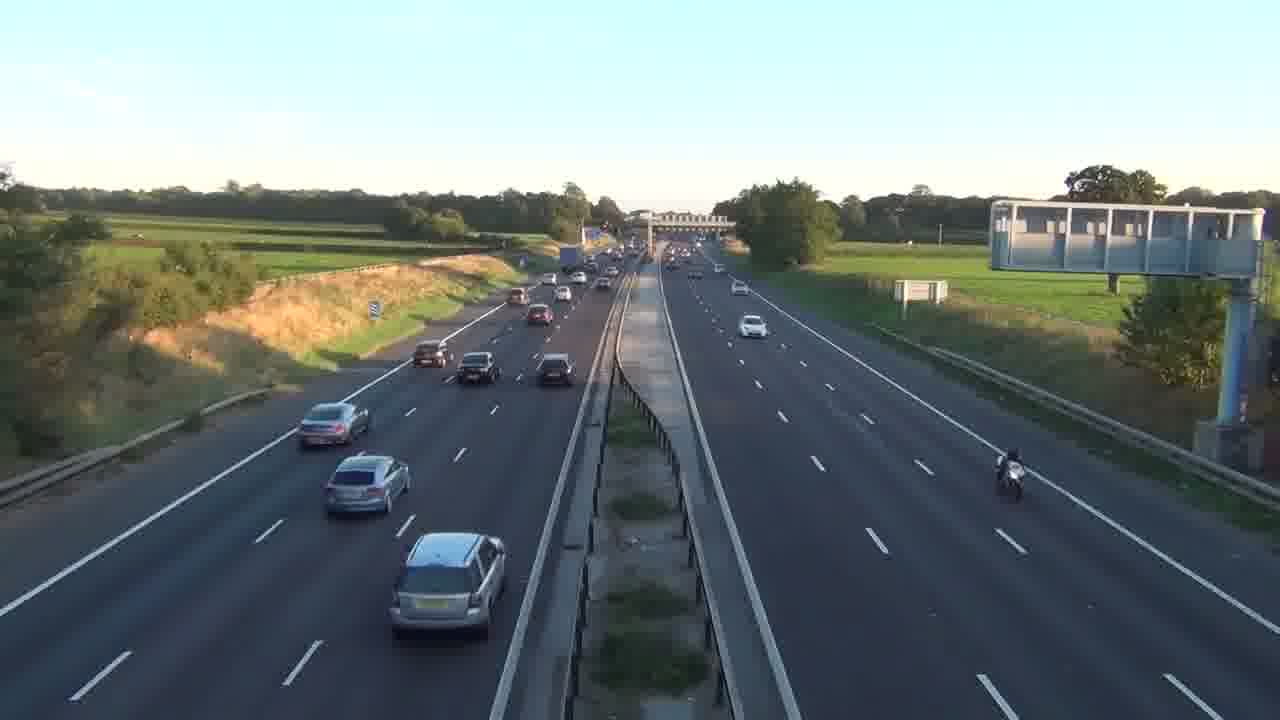car: (388, 530, 509, 637), (322, 453, 411, 518), (298, 401, 359, 449), (457, 350, 499, 385), (534, 351, 574, 387), (738, 313, 770, 339), (526, 303, 553, 325)
